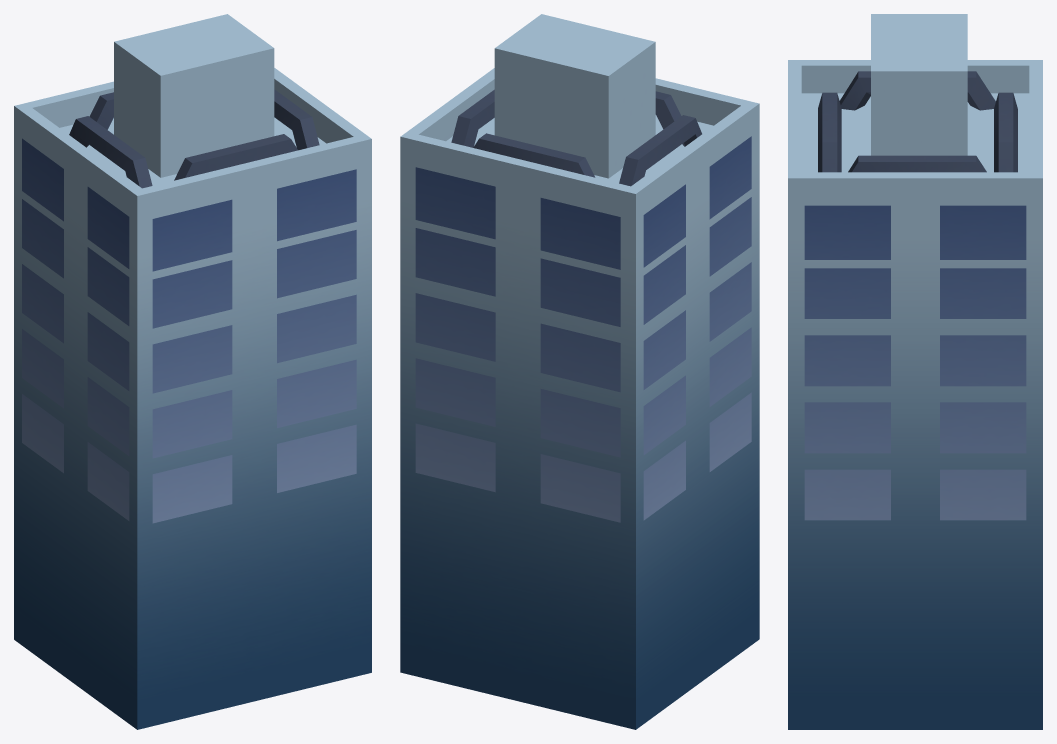
The model's file is Building_03.fbx.
3 views of the same model, side by side, from view 1: azimuth 30°, elevation 25°; view 2: azimuth 150°, elevation 25°; view 3: azimuth 270°, elevation 25° (orthographic). The views are drawn at different scales.
Visible parts, largest first — view 1: Box034; view 2: Box034; view 3: Box034.
Boxes of the visible parts, x1,y1,x2,y2 form: Box034: [14, 14, 371, 729]; Box034: [400, 14, 759, 729]; Box034: [788, 14, 1042, 729].
Bounding box in the file's own units: 256 × 635 × 233.
